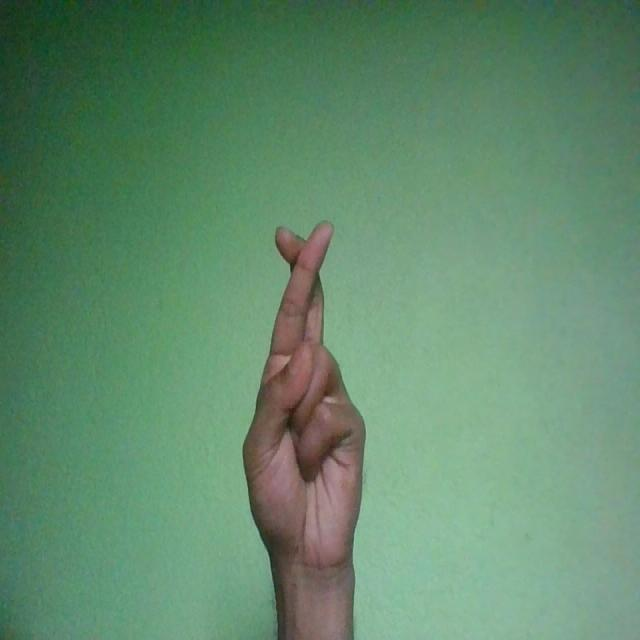Ok: (241, 219, 367, 580)
